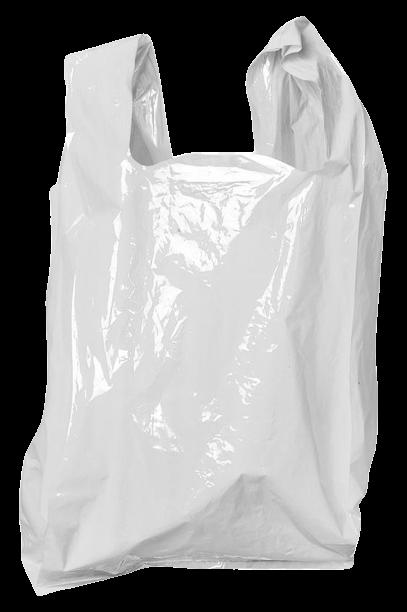Plastik: (15, 10, 383, 596)
